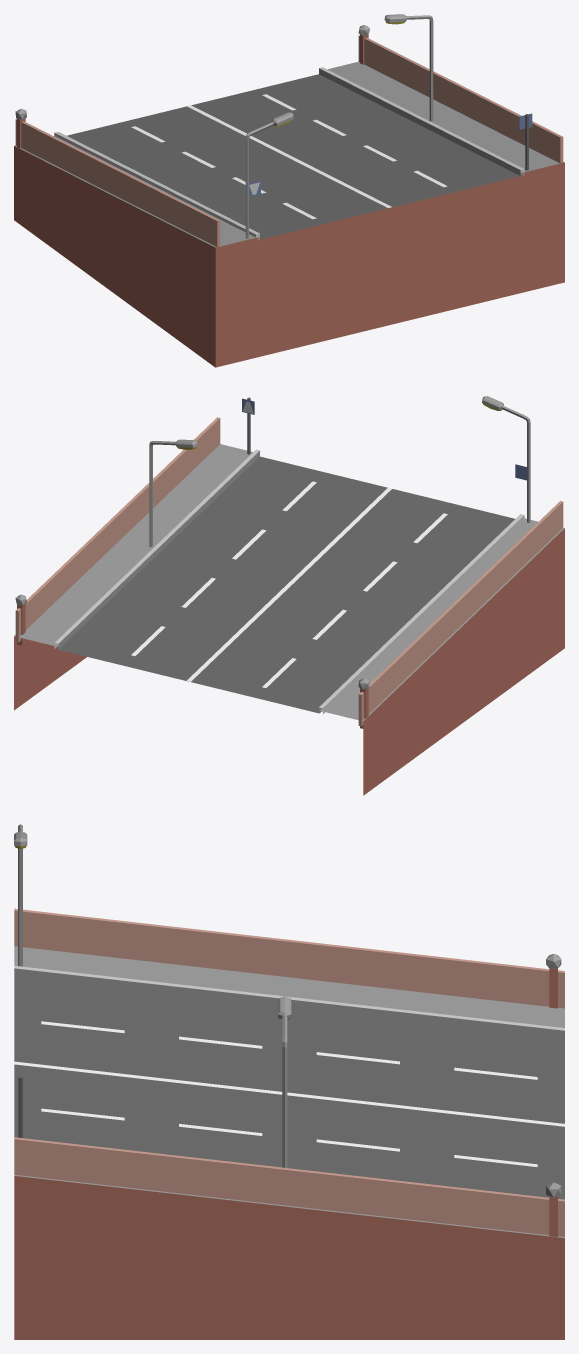
The model's file is bridge_road_001.fbx.
The picture shows the model from 3 angles, top to bottom: view 1: azimuth 30°, elevation 25°; view 2: azimuth 150°, elevation 25°; view 3: azimuth 270°, elevation 25°; orthographic projection. The views are drawn at different scales.
Visible parts, largest first — view 1: bridge_road_001; view 2: bridge_road_001; view 3: bridge_road_001.
Boxes of the visible parts, x1,y1,x2,y2 form: bridge_road_001: [14, 14, 564, 367]; bridge_road_001: [14, 396, 564, 795]; bridge_road_001: [14, 824, 564, 1339].
Size of the model in its own units: 1618 by 1027 by 1601.
